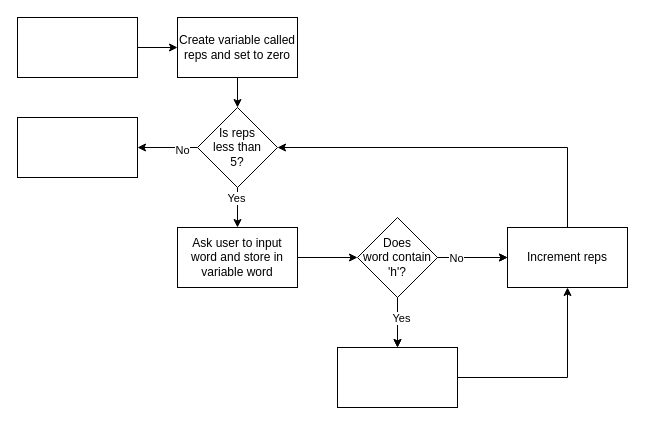
This 645x425 diagram has some shape labels left out. Each missing label, with the box of its shape:
Create a variable called count to count the words with 'h': (16, 16, 138, 78)
Increment count: (336, 346, 458, 408)
Print count: (16, 116, 138, 178)
